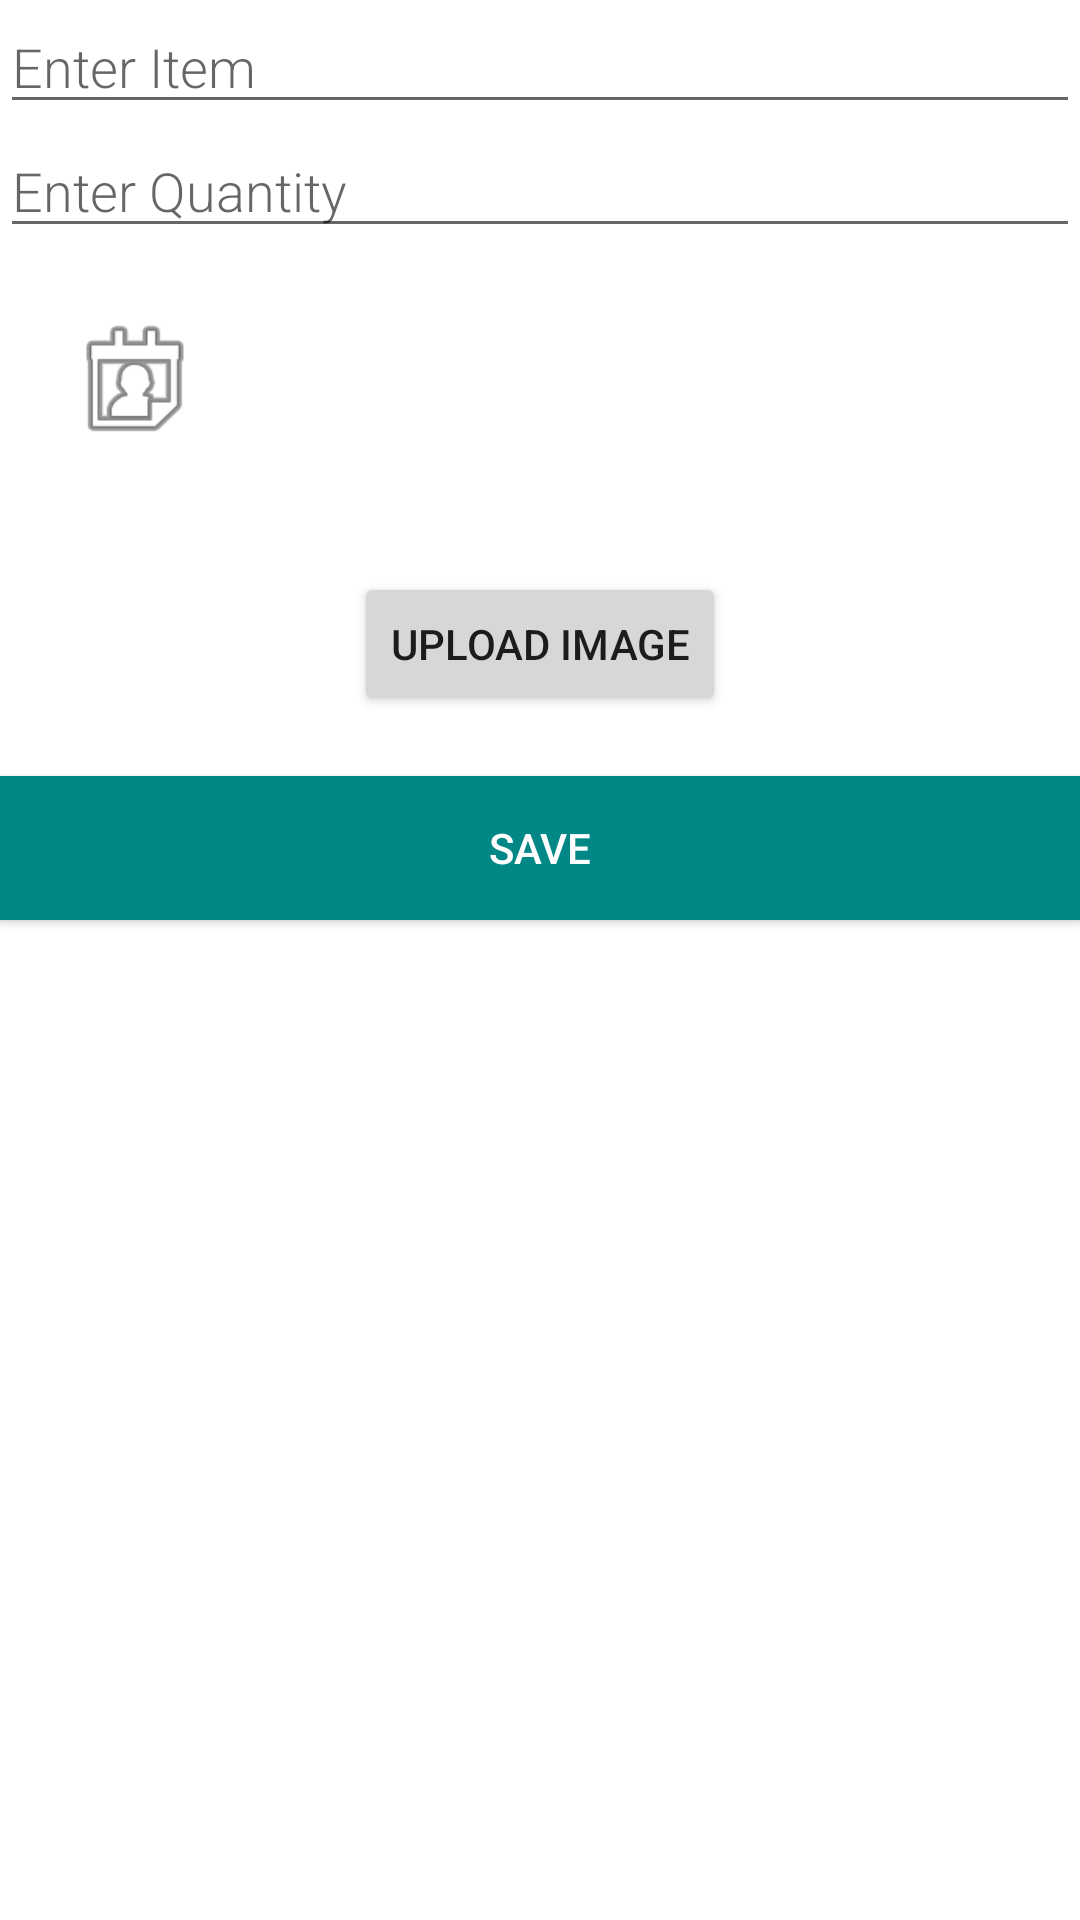

Screen size 1080w x 1920h. Icon name, then its box in pixels as (x1, y1, x2, y2):
calendar: (86, 326, 184, 431)
